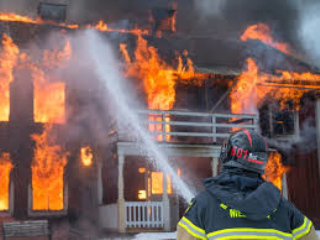fire: (132, 32, 320, 129), (3, 23, 78, 215)
